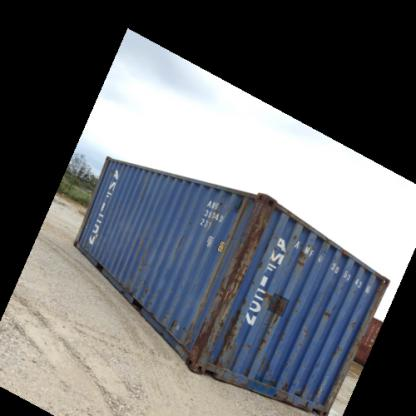Damage: (211, 199, 270, 298), (194, 301, 259, 376), (120, 258, 164, 310), (260, 281, 291, 339), (292, 241, 320, 271), (274, 379, 308, 401), (169, 221, 188, 254), (316, 302, 339, 322), (326, 340, 344, 363), (165, 312, 180, 334), (282, 226, 300, 240), (351, 317, 361, 335)
